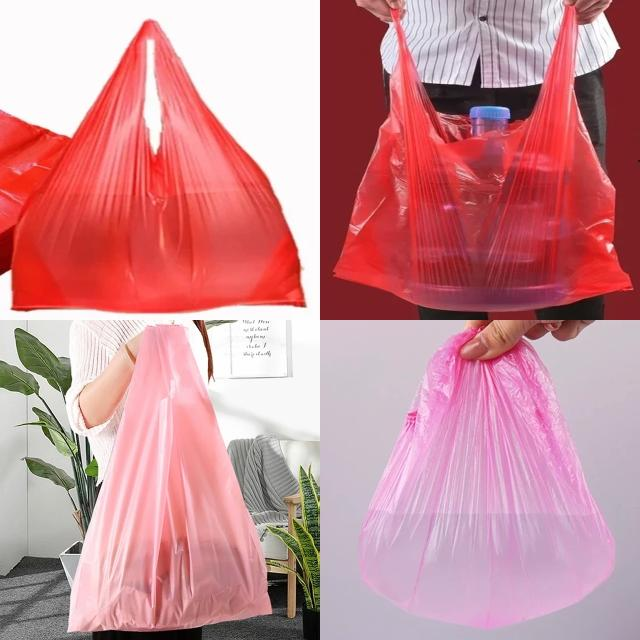Single-layer Plastic: (335, 8, 631, 311), (11, 20, 305, 312), (359, 330, 615, 628), (69, 325, 271, 631)
